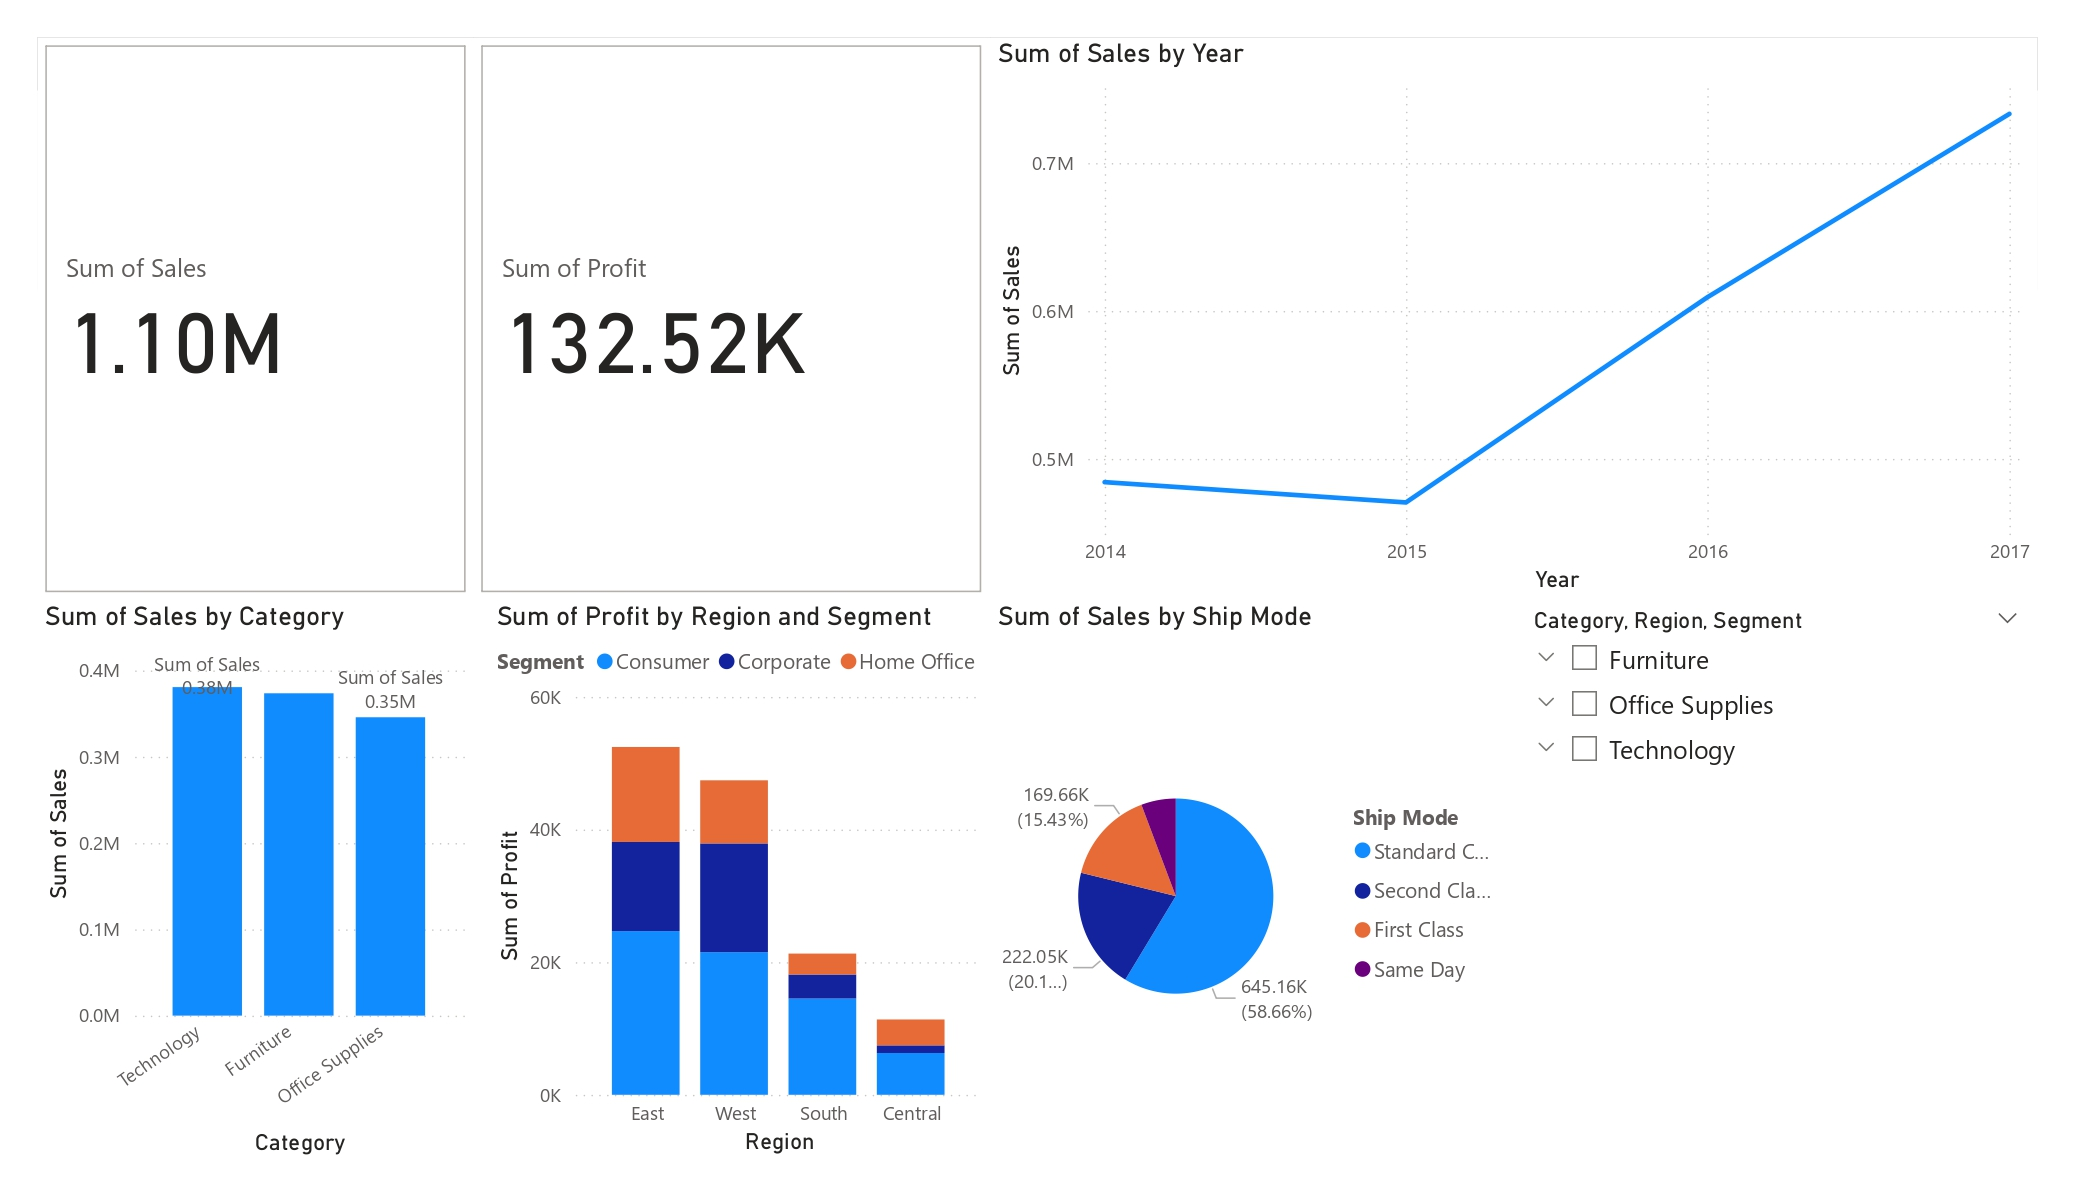

This screenshot's page, from the dashboard's own definition file:
{"tool":"powerbi","page":{"name":"Page 1","canvas":[1280,720],"ordinal":0},"visuals":[{"type":"clusteredColumnChart","fields":{"Category":["Orders.Category"],"Y":["Sum(Orders.Sales)"]},"box":[0,360,279.2,360],"z":0},{"type":"columnChart","fields":{"Category":["Orders.Region"],"Y":["Sum(Orders.Profit)"],"Series":["Orders.Segment"]},"box":[289.5,360,320.3,360],"z":1000},{"type":"pieChart","fields":{"Category":["Orders.Ship Mode"],"Y":["Sum(Orders.Sales)"]},"box":[609.8,360,335,360],"z":2000},{"type":"slicer","fields":{"Values":["Orders.Category","Orders.Region","Orders.Segment"]},"box":[944.8,360,335,360],"z":3000},{"type":"lineChart","fields":{"Category":["Orders$FilterDatabase.Order Date.Variation.Date Hierarchy.Year","Orders$FilterDatabase.Order Date.Variation.Date Hierarchy.Quarter","Orders$FilterDatabase.Order Date.Variation.Date Hierarchy.Month","Orders$FilterDatabase.Order Date.Variation.Date Hierarchy.Day"],"Y":["Sum(Orders$FilterDatabase.Sales)"]},"box":[609.8,0,670,360],"z":4000},{"type":"cardVisual","fields":{"Data":["Sum(Orders.Sales)"]},"box":[0,0,279.2,360],"z":5000},{"type":"cardVisual","fields":{"Data":["Sum(Orders.Profit)"]},"box":[279.2,0,330.6,360],"z":6000}]}

Visuals, with their boxes on the page's 1280x720 design canvas (x1, y1, x2, y2). These are canvas units, not pixel positions in the 2075x1200 screenshot, which may show the page scaled, cropped or inside an application window:
clusteredColumnChart - Orders.Category x Sum(Orders.Sales): pyautogui.locateOnScreen(0, 360, 279, 720)
columnChart - Orders.Region x Sum(Orders.Profit): pyautogui.locateOnScreen(290, 360, 610, 720)
pieChart - Orders.Ship Mode x Sum(Orders.Sales): pyautogui.locateOnScreen(610, 360, 945, 720)
slicer - Orders.Category x Orders.Region: pyautogui.locateOnScreen(945, 360, 1280, 720)
lineChart - Orders$FilterDatabase.Order Date.Variation.Date Hierarchy.Year x Orders$FilterDatabase.Order Date.Variation.Date Hierarchy.Quarter: pyautogui.locateOnScreen(610, 0, 1280, 360)
cardVisual - Sum(Orders.Sales): pyautogui.locateOnScreen(0, 0, 279, 360)
cardVisual - Sum(Orders.Profit): pyautogui.locateOnScreen(279, 0, 610, 360)
